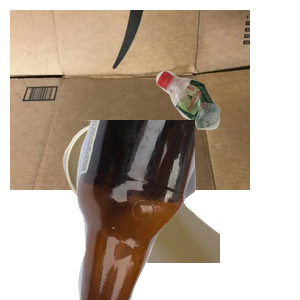cardboard: (10, 10, 250, 190)
glass: (60, 120, 300, 300)
plastic: (153, 68, 300, 190)
trash: (60, 120, 300, 300)
